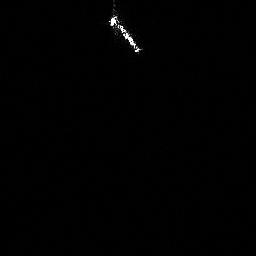ship: (105, 11, 144, 56)
